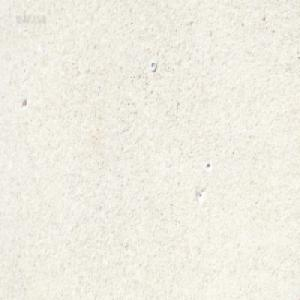Washer: (150, 59, 156, 71)
